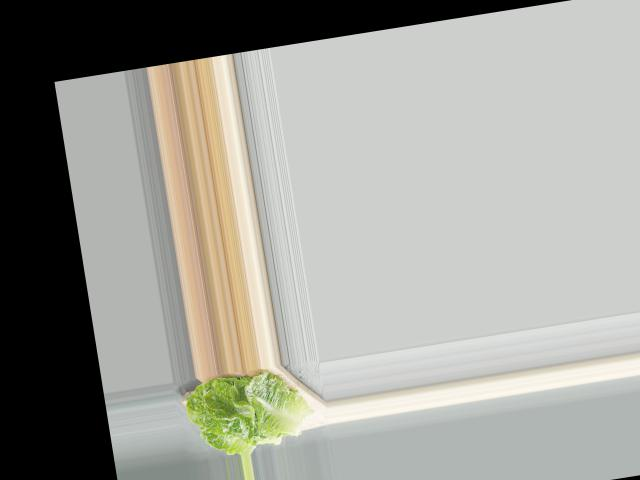lettuce: (177, 361, 313, 462)
